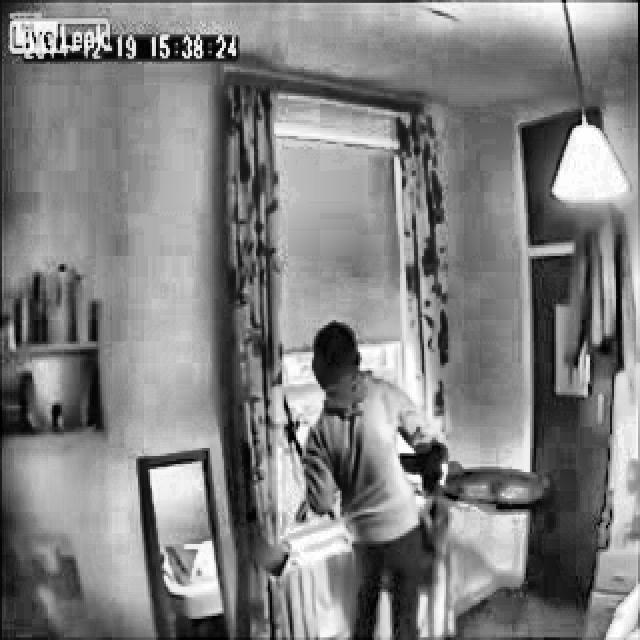burglary: (276, 314, 558, 640)
